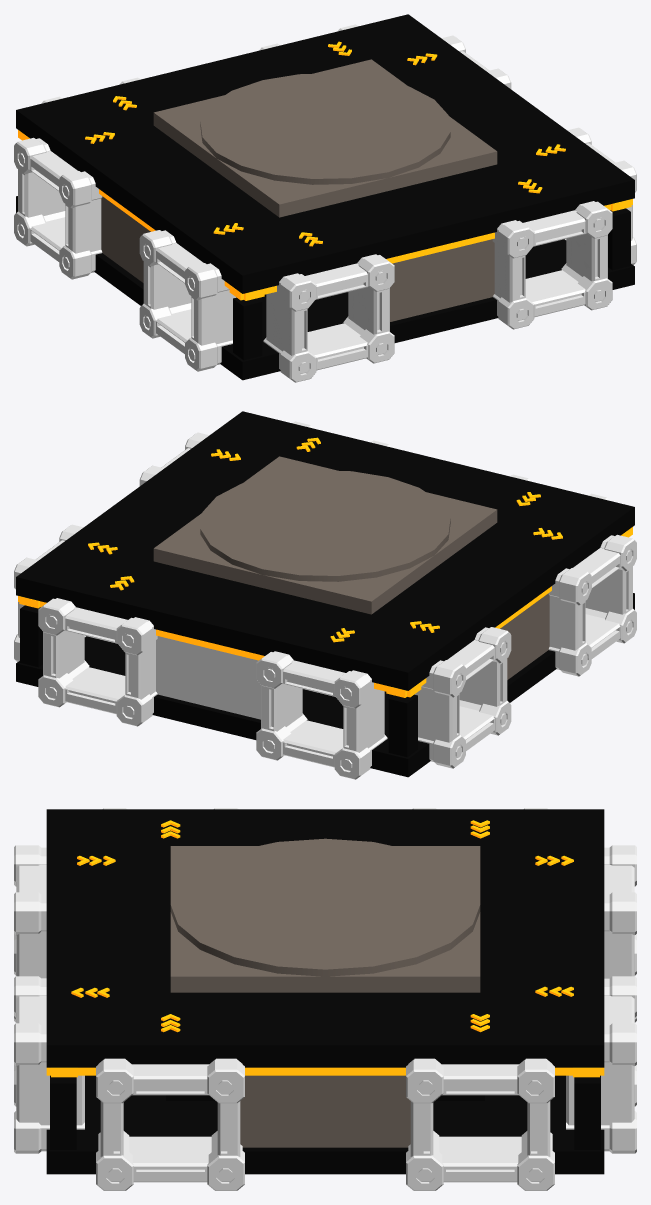
The model's file is Storage.fbx.
The picture shows the model from 3 angles, top to bottom: view 1: azimuth 30°, elevation 25°; view 2: azimuth 150°, elevation 25°; view 3: azimuth 270°, elevation 25°; orthographic projection. The views are drawn at different scales.
Visible parts, largest first — view 1: Storage, Cylinder, Port__5_, Port__4_, Cylinder__3_, Port, Port__1_, Cube__2_, Port__2_, Port__3_; view 2: Storage, Cylinder, Port__7_, Port__6_, Cylinder__3_, Port__1_, Port, Cube__3_, Port__3_, Port__2_; view 3: Storage, Cylinder, Port__2_, Port__3_, Cylinder__3_, Port__4_, Port__6_, Port__5_, Port__7_, Cube__1__24.
Boxes of the visible parts, box(x1,y1,x2,y2) form: Storage: box(16, 14, 634, 380); Cylinder: box(200, 73, 450, 184); Port__5_: box(263, 254, 394, 382); Port__4_: box(492, 201, 612, 329); Cylinder__3_: box(153, 59, 497, 217); Port: box(139, 230, 236, 371); Port__1_: box(14, 137, 102, 279); Cube__2_: box(229, 199, 632, 300); Port__2_: box(565, 127, 636, 264); Port__3_: box(441, 35, 511, 88); Storage: box(16, 411, 634, 777); Cylinder: box(200, 470, 450, 581); Port__7_: box(256, 651, 387, 779); Port__6_: box(38, 598, 157, 726); Cylinder__3_: box(153, 456, 497, 614); Port__1_: box(414, 627, 511, 768); Port: box(548, 534, 636, 676); Cube__3_: box(18, 596, 421, 697); Port__3_: box(14, 524, 85, 661); Port__2_: box(139, 432, 209, 485); Storage: box(46, 809, 604, 1174); Cylinder: box(170, 838, 480, 981); Port__2_: box(96, 1058, 244, 1190); Port__3_: box(406, 1058, 554, 1190); Cylinder__3_: box(170, 846, 480, 992); Port__4_: box(14, 976, 84, 1153); Port__6_: box(566, 976, 636, 1153); Port__5_: box(14, 845, 46, 1022); Port__7_: box(604, 845, 636, 1022); Cube__1__24: box(46, 1067, 604, 1075).
Bounding box in the file's own units: 201 × 55.48 × 201.
